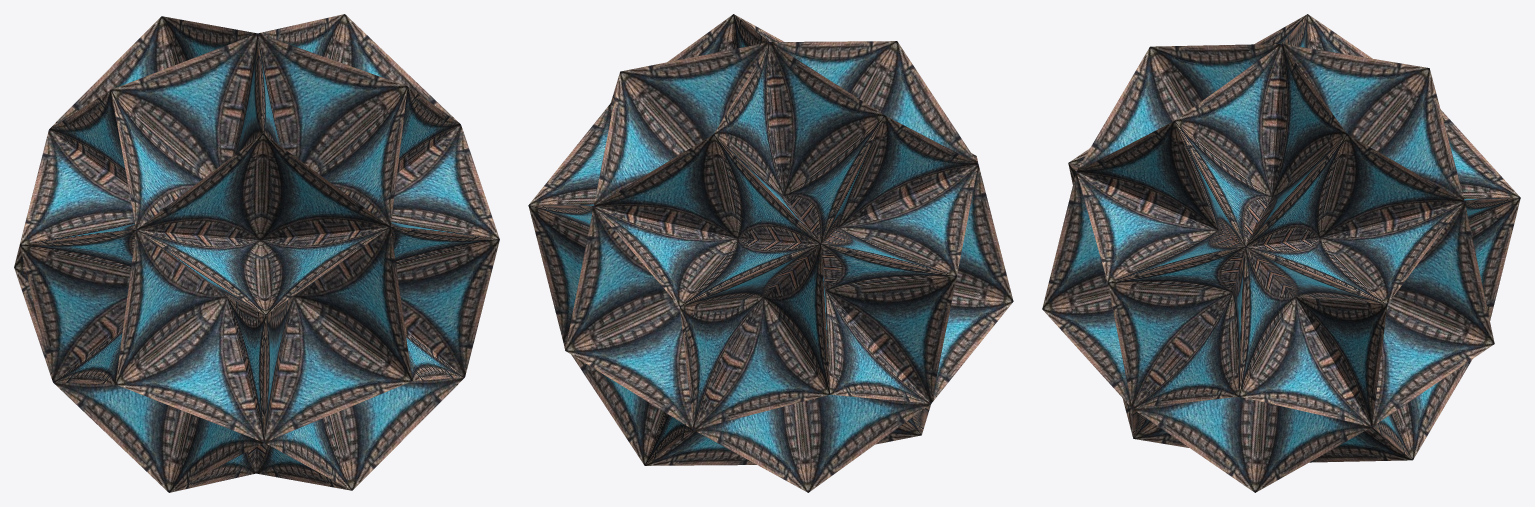
Rendered from Mobius120b_2.obj.
3 views of the same model, side by side, from view 1: azimuth 30°, elevation 25°; view 2: azimuth 150°, elevation 25°; view 3: azimuth 270°, elevation 25° (orthographic). The views are drawn at different scales.
Bounding box in the file's own units: 3.09 × 3.02 × 3.11.
1 material, 1 textured.
